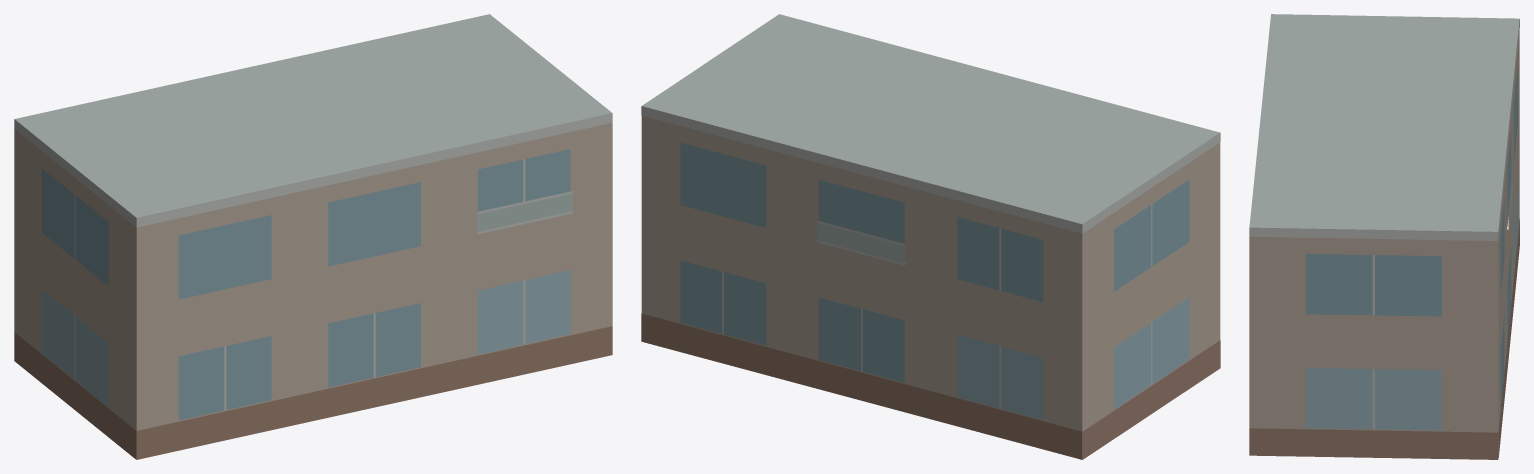
File: survey-upis-33039794.glb
The picture shows the model from 3 angles, left to right: view 1: azimuth 30°, elevation 25°; view 2: azimuth 150°, elevation 25°; view 3: azimuth 270°, elevation 25°; orthographic projection. The views are drawn at different scales.
Parts seen in each view (by area): view 1: survey-upis-33039794.tmp; view 2: survey-upis-33039794.tmp; view 3: survey-upis-33039794.tmp.
Part boxes in pixels (x1,y1,x2,y2): survey-upis-33039794.tmp: (14,14,612,459); survey-upis-33039794.tmp: (641,14,1220,459); survey-upis-33039794.tmp: (1249,14,1519,459).
Size of the model in its own units: 12.51 by 6.1 by 6.57.
